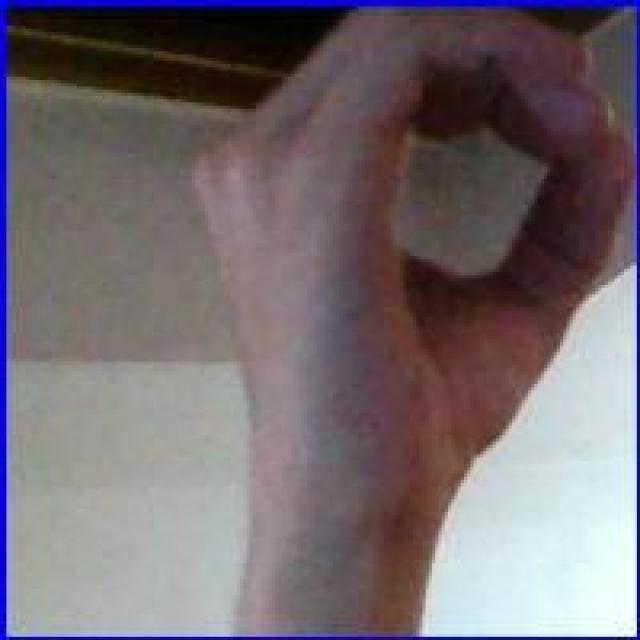O: (174, 8, 636, 517)
